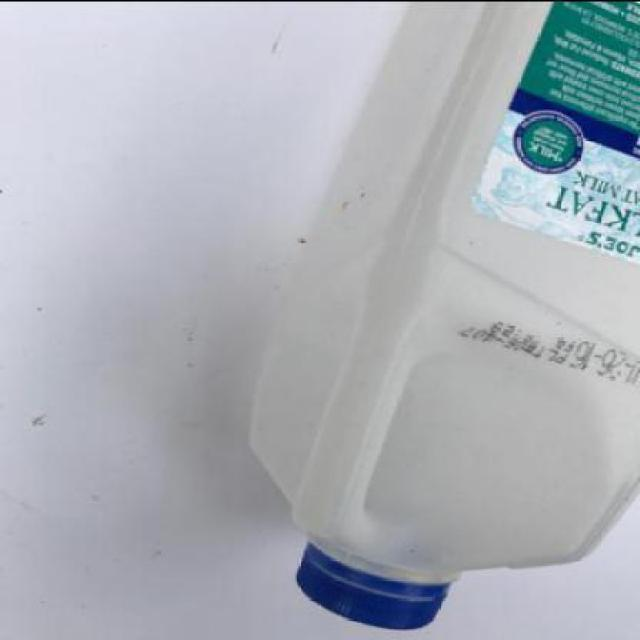PLASTIC: (250, 2, 638, 629), (297, 539, 455, 626)
